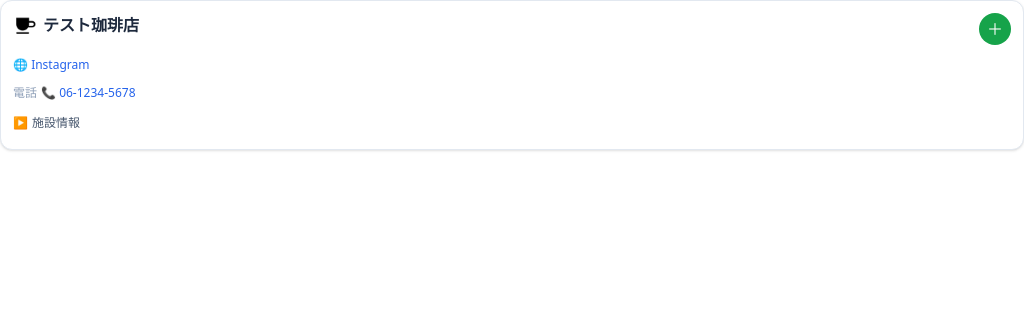
Test case: MobileFacilityCard: 地図サムネイル（showMapThumb） › 検索結果カードは連絡先を1つだけ表示し、電話の下で施設情報を開閉できる
The image size is (1024, 336).
Expected: the number of links is 2, [13,57,90,73]; [13,85,136,101]
Expected: the text "営業時間" is not shown
What coordinates should you click on to do the following:
click the button "▶ 施設情報"
I would click on:
 (46, 123)
Its box is [13,109,80,137].
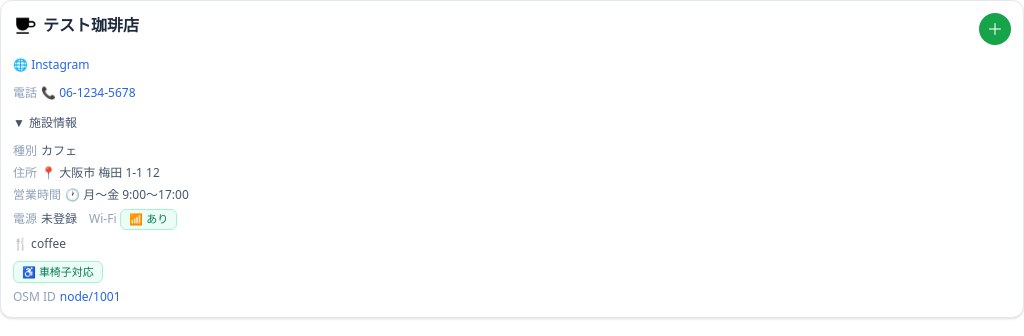
Expected: the button "▼ 施設情報" is expanded
Expected: the text "営業時間" is shown, [13,187,61,203]
Expected: the text "Wi-Fi" is shown, [89,211,116,227]
What coordinates should you click on to do the following:
click the button "▼ 施設情報"
I would click on:
 (45, 123)
Its box is [13,109,77,137].
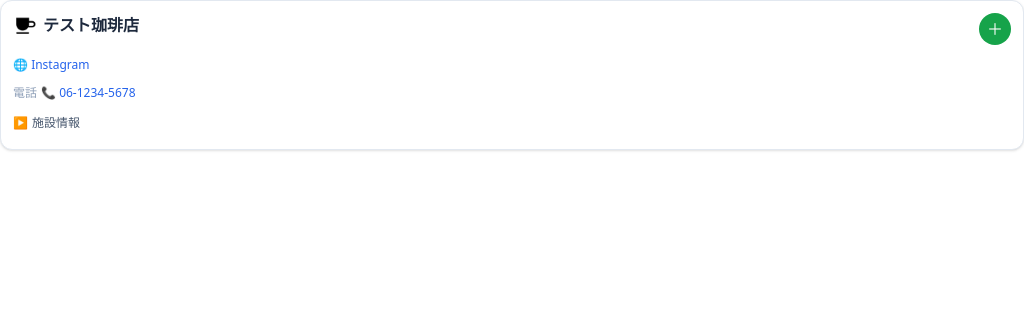
Expected: the text "営業時間" is gone
